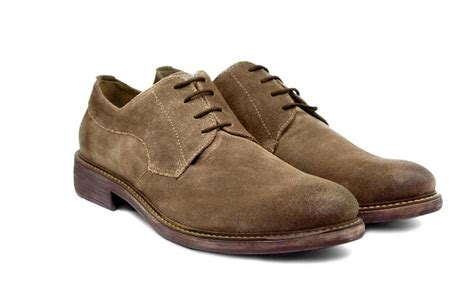gamuza: (77, 58, 437, 241)
